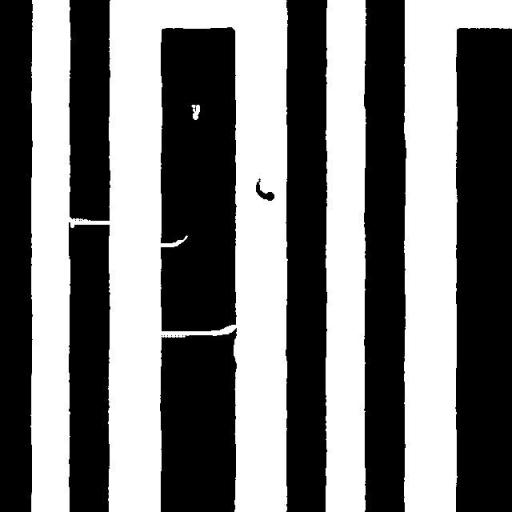copper: (248, 170, 282, 208)
mousebite: (150, 228, 196, 254)
open: (147, 317, 244, 345), (57, 207, 120, 235)
pin-hole: (183, 97, 207, 127)
